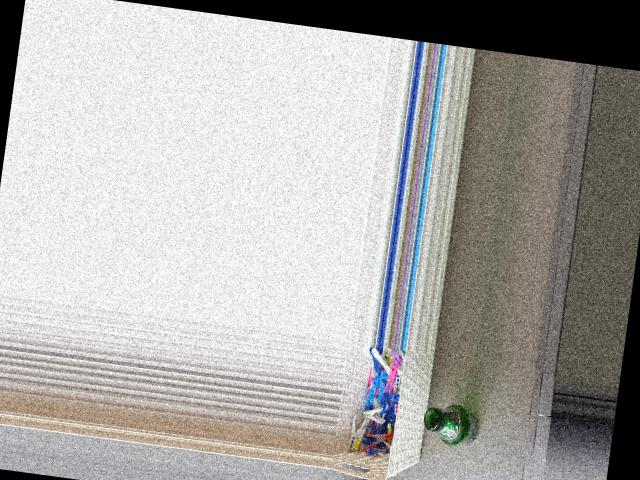beer: (421, 400, 482, 449)
